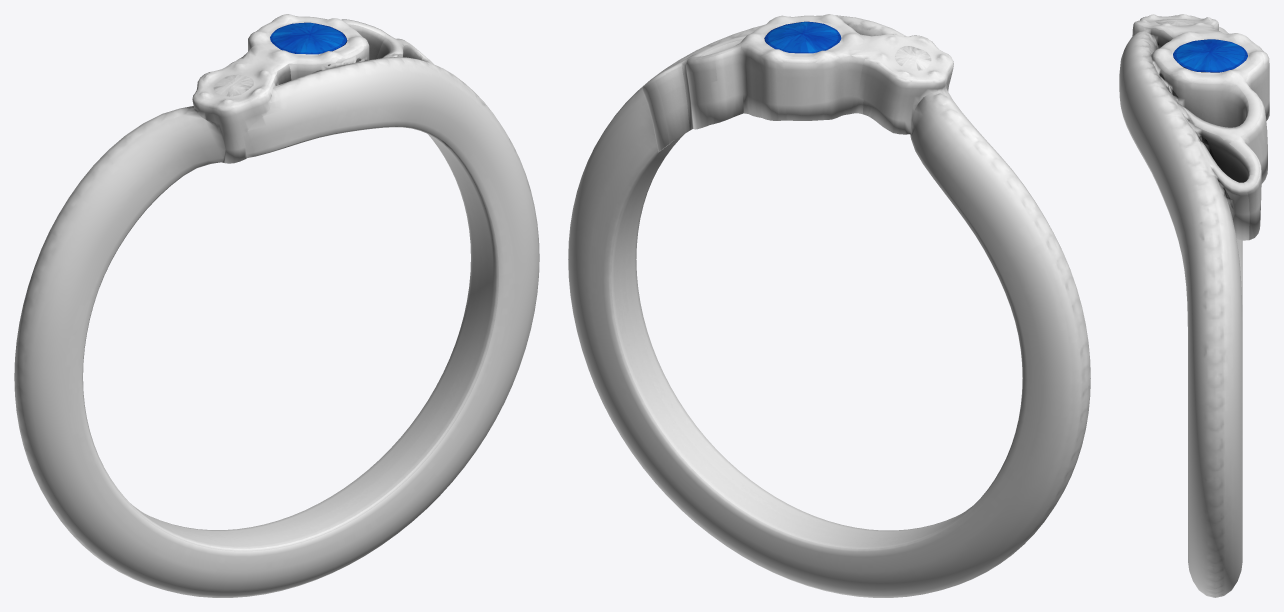
The model's file is test_ring.glb.
The picture shows the model from 3 angles, left to right: view 1: azimuth 30°, elevation 25°; view 2: azimuth 150°, elevation 25°; view 3: azimuth 270°, elevation 25°; orthographic projection. The views are drawn at different scales.
Visible parts, largest first — view 1: Torus.001; view 2: Torus.001; view 3: Torus.001.
Boxes of the visible parts, <box> form: Torus.001: <box>14,14,539,597</box>; Torus.001: <box>568,14,1090,597</box>; Torus.001: <box>1119,14,1269,597</box>.
Size of the model in its own units: 2.48 by 2.51 by 0.6393.
3 materials, 3 textured.
